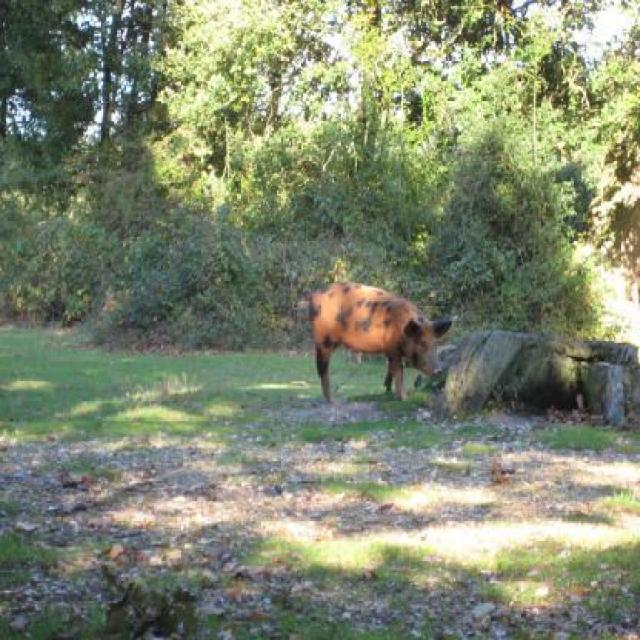Boar: (303, 278, 454, 408)
